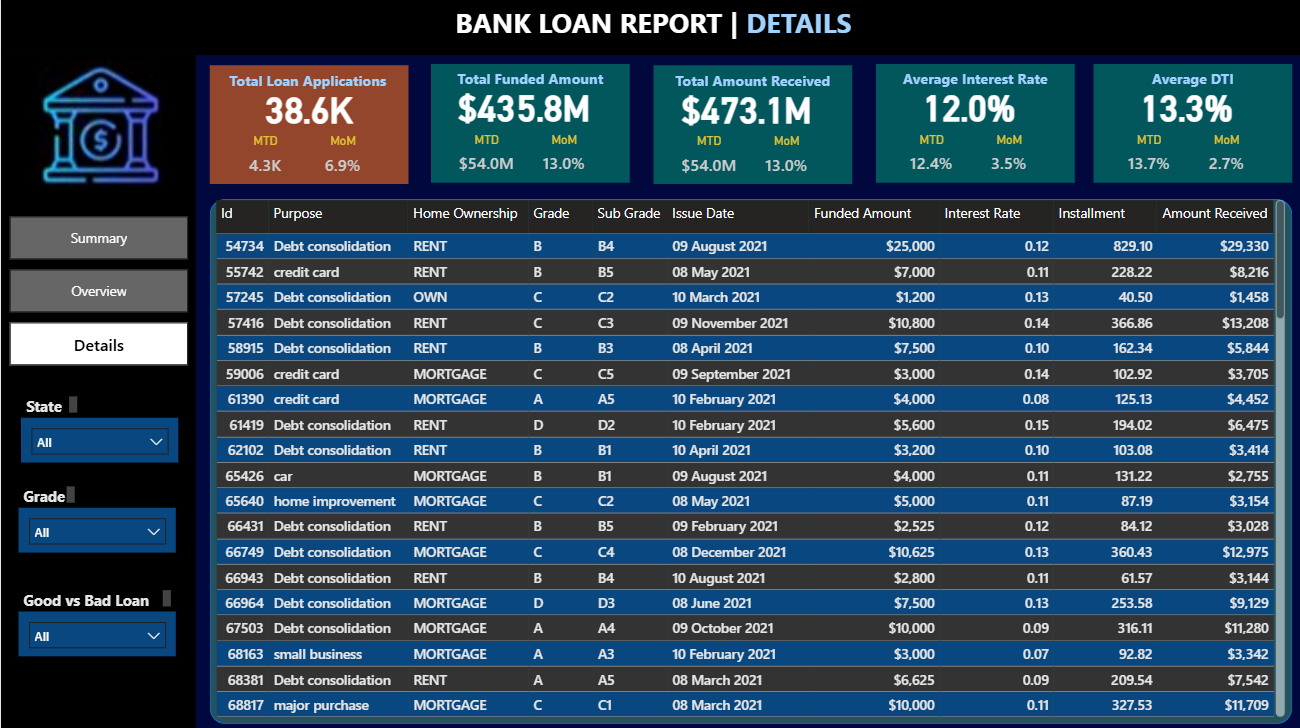

Layout of this report page (visuals, bound fields, positions):
{"tool":"powerbi","page":{"name":"Details","canvas":[1280,720],"ordinal":2},"visuals":[{"type":"shape","box":[204.9,196.3,1062.6,515.3],"z":0},{"type":"shape","box":[0,0,1279.8,55],"z":1000},{"type":"shape","box":[0,55.2,191.4,665],"z":2000},{"type":"textbox","box":[422.1,0,436.8,55.2],"z":3000},{"type":"shape","box":[421.7,63.8,195.1,116.6],"z":3000,"group":"g1"},{"type":"shape","box":[858.9,63.8,195.1,116.6],"z":3000,"group":"g3"},{"type":"shape","box":[1071.9,63.8,195.1,116.6],"z":3000,"group":"g4"},{"type":"shape","box":[204.9,65,195.1,116.6],"z":3000,"group":"g5"},{"type":"shape","box":[640.3,65,195.1,116.6],"z":3000,"group":"g2"},{"type":"group","id":"g1","title":"Group 1","box":[416.1,63.8,201.2,116.6],"z":4000},{"type":"card","fields":{"Values":["bank_loan_db financial_loans.Total Funded Amount"]},"box":[416.1,78.8,195.1,52.8],"z":4000,"group":"g1"},{"type":"card","fields":{"Values":["bank_loan_db financial_loans.Average Interest Rate"]},"box":[853.3,78.8,195.1,52.8],"z":4000,"group":"g3"},{"type":"card","fields":{"Values":["bank_loan_db financial_loans.Avg DTI"]},"box":[1066.3,78.8,195.1,52.8],"z":4000,"group":"g4"},{"type":"card","fields":{"Values":["bank_loan_db financial_loans.Total Loan Applications"]},"box":[204.9,79.7,195.1,52.8],"z":4000,"group":"g5"},{"type":"card","fields":{"Values":["bank_loan_db financial_loans.Total Amount Received"]},"box":[634.7,80,195.1,52.8],"z":4000,"group":"g2"},{"type":"textbox","box":[421.7,63.8,195.1,29.4],"z":5000,"group":"g1"},{"type":"textbox","box":[858.9,63.8,195.1,29.4],"z":5000,"group":"g3"},{"type":"textbox","box":[1071.9,63.8,195.1,29.4],"z":5000,"group":"g4"},{"type":"group","id":"g2","title":"Group 1","box":[634.7,65,201.2,116.6],"z":5000},{"type":"textbox","box":[640.3,65,195.1,29.4],"z":5000,"group":"g2"},{"type":"textbox","box":[205.3,65.2,192.6,29.4],"z":5000,"group":"g5"},{"type":"group","id":"g3","title":"Group 1","box":[853.3,63.8,201.2,116.6],"z":6000},{"type":"card","title":"MTD","fields":{"Values":["bank_loan_db financial_loans.MTD Funded Amount"]},"box":[443.8,131.3,65,49.1],"z":6000,"group":"g1"},{"type":"card","title":"MTD","fields":{"Values":["bank_loan_db financial_loans.MTD Avg Int Rate"]},"box":[881,131.3,65,49.1],"z":6000,"group":"g3"},{"type":"card","title":"MTD","fields":{"Values":["bank_loan_db financial_loans.MTD Avg DTI"]},"box":[1094,131.3,65,49.1],"z":6000,"group":"g4"},{"type":"card","title":"MTD","fields":{"Values":["bank_loan_db financial_loans.MTD Loan Applications"]},"box":[227,132.5,65,49.1],"z":6000,"group":"g5"},{"type":"card","title":"MTD","fields":{"Values":["bank_loan_db financial_loans.MTD Funded Amount"]},"box":[662.4,132.5,65,49.1],"z":6000,"group":"g2"},{"type":"group","id":"g4","title":"Group 1","box":[1066.3,63.8,200.7,116.6],"z":7000},{"type":"card","title":"MoM","fields":{"Values":["bank_loan_db financial_loans.MoM Total Funded Amount"]},"box":[519.9,131.3,65,49.1],"z":7000,"group":"g1"},{"type":"card","title":"MoM","fields":{"Values":["bank_loan_db financial_loans.MoM Avg Int Rate"]},"box":[957.1,131.3,65,49.1],"z":7000,"group":"g3"},{"type":"card","title":"MoM","fields":{"Values":["bank_loan_db financial_loans.MoM Avg DTI"]},"box":[1170.1,131.3,65,49.1],"z":7000,"group":"g4"},{"type":"card","title":"MoM","fields":{"Values":["bank_loan_db financial_loans.MoM Loan Applications"]},"box":[303.1,132.5,65,49.1],"z":7000,"group":"g5"},{"type":"card","title":"MoM","fields":{"Values":["bank_loan_db financial_loans.MoM Total Funded Amount"]},"box":[738.5,132.5,65,49.1],"z":7000,"group":"g2"},{"type":"slicer","fields":{"Values":["bank_loan_db financial_loans.address_state"]},"box":[19.4,411.5,154.6,44.2],"z":8000},{"type":"textbox","box":[19.4,385.8,60.1,25.8],"z":9000},{"type":"slicer","fields":{"Values":["bank_loan_db financial_loans.grade"]},"box":[17.4,499.6,154.6,44.2],"z":10000},{"type":"textbox","box":[17.4,473.9,60.1,25.8],"z":11000},{"type":"slicer","fields":{"Values":["bank_loan_db financial_loans.Good vs Bad Loan"]},"box":[17.4,601,154.6,44.2],"z":12000},{"type":"textbox","box":[17.4,575.2,154.6,25.8],"z":13000},{"type":"group","id":"g5","title":"Group 1","box":[204.9,65,195.1,116.6],"z":16000},{"type":"tableEx","fields":{"Values":["bank_loan_db financial_loans.id","bank_loan_db financial_loans.purpose","bank_loan_db financial_loans.home_ownership","bank_loan_db financial_loans.grade","bank_loan_db financial_loans.sub_grade","bank_loan_db financial_loans.issue_date","bank_loan_db financial_loans.Total Funded Amount","Sum(bank_loan_db financial_loans.int_rate)","Sum(bank_loan_db financial_loans.installment)","bank_loan_db financial_loans.Total Amount Received"]},"box":[204.3,192.8,1060.2,516.6],"z":17000},{"type":"image","box":[24.5,55.2,146,135],"z":17001},{"type":"pageNavigator","box":[8.6,213.5,175.5,146],"z":17002}]}

Visuals, with their boxes in screenshot pixels (x1, y1, x2, y2), scaled from the page's 1280x720 canvas onto the 1300x728 screenshot:
shape: Rect(208, 198, 1287, 720)
shape: Rect(0, 0, 1299, 56)
shape: Rect(0, 56, 194, 727)
textbox: Rect(429, 0, 872, 56)
shape: Rect(428, 65, 626, 182)
shape: Rect(872, 65, 1070, 182)
shape: Rect(1089, 65, 1287, 182)
shape: Rect(208, 66, 406, 184)
shape: Rect(650, 66, 848, 184)
"Group 1" group: Rect(423, 65, 627, 182)
card - bank_loan_db financial_loans.Total Funded Amount: Rect(423, 80, 621, 133)
card - bank_loan_db financial_loans.Average Interest Rate: Rect(867, 80, 1065, 133)
card - bank_loan_db financial_loans.Avg DTI: Rect(1083, 80, 1281, 133)
card - bank_loan_db financial_loans.Total Loan Applications: Rect(208, 81, 406, 134)
card - bank_loan_db financial_loans.Total Amount Received: Rect(645, 81, 843, 134)
textbox: Rect(428, 65, 626, 94)
textbox: Rect(872, 65, 1070, 94)
textbox: Rect(1089, 65, 1287, 94)
"Group 1" group: Rect(645, 66, 849, 184)
textbox: Rect(650, 66, 848, 95)
textbox: Rect(209, 66, 404, 96)
"Group 1" group: Rect(867, 65, 1071, 182)
"MTD" card: Rect(451, 133, 517, 182)
"MTD" card: Rect(895, 133, 961, 182)
"MTD" card: Rect(1111, 133, 1177, 182)
"MTD" card: Rect(231, 134, 297, 184)
"MTD" card: Rect(673, 134, 739, 184)
"Group 1" group: Rect(1083, 65, 1287, 182)
"MoM" card: Rect(528, 133, 594, 182)
"MoM" card: Rect(972, 133, 1038, 182)
"MoM" card: Rect(1188, 133, 1254, 182)
"MoM" card: Rect(308, 134, 374, 184)
"MoM" card: Rect(750, 134, 816, 184)
slicer - bank_loan_db financial_loans.address_state: Rect(20, 416, 177, 461)
textbox: Rect(20, 390, 81, 416)
slicer - bank_loan_db financial_loans.grade: Rect(18, 505, 175, 550)
textbox: Rect(18, 479, 79, 505)
slicer - bank_loan_db financial_loans.Good vs Bad Loan: Rect(18, 608, 175, 652)
textbox: Rect(18, 582, 175, 608)
"Group 1" group: Rect(208, 66, 406, 184)
tableEx - bank_loan_db financial_loans.id x bank_loan_db financial_loans.purpose: Rect(207, 195, 1284, 717)
image: Rect(25, 56, 173, 192)
pageNavigator: Rect(9, 216, 187, 363)
